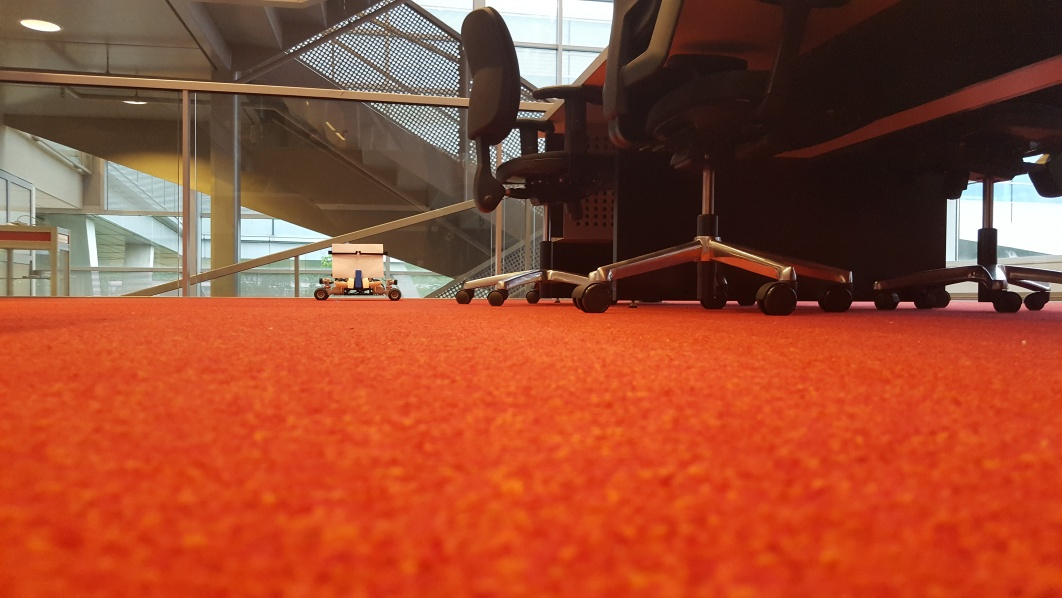car: (313, 237, 402, 302)
